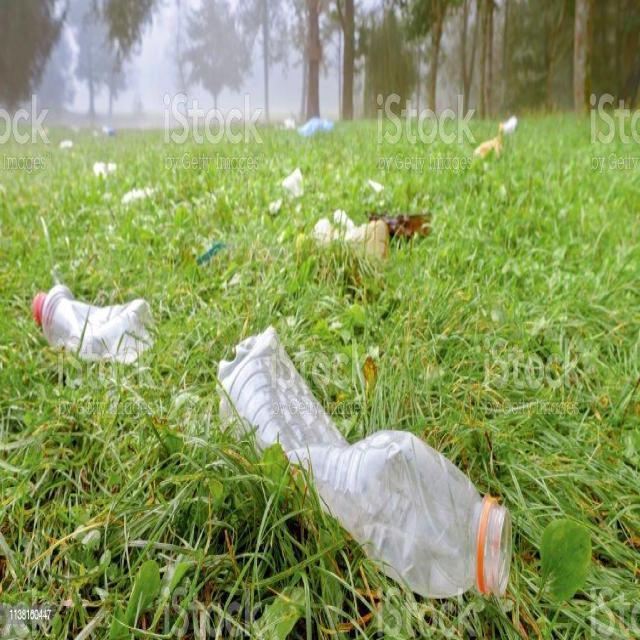bottle: (208, 297, 518, 598), (86, 265, 92, 376)
